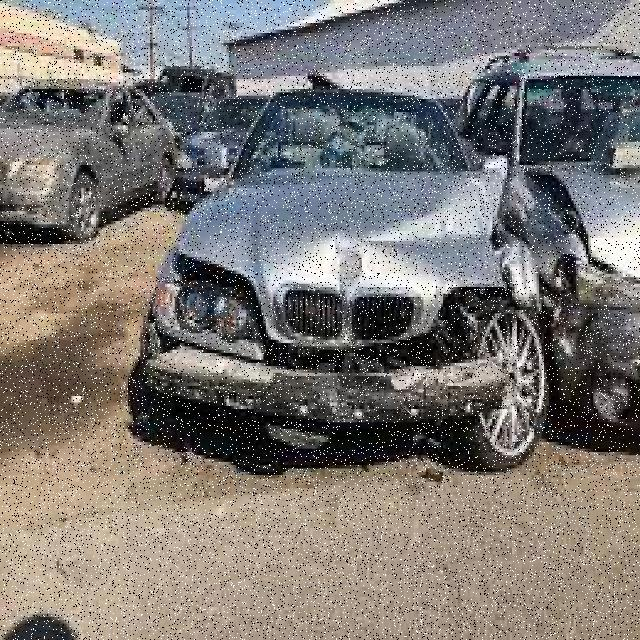bonnet-dent: (185, 180, 498, 308)
front-bumper-dent: (148, 287, 517, 426)
